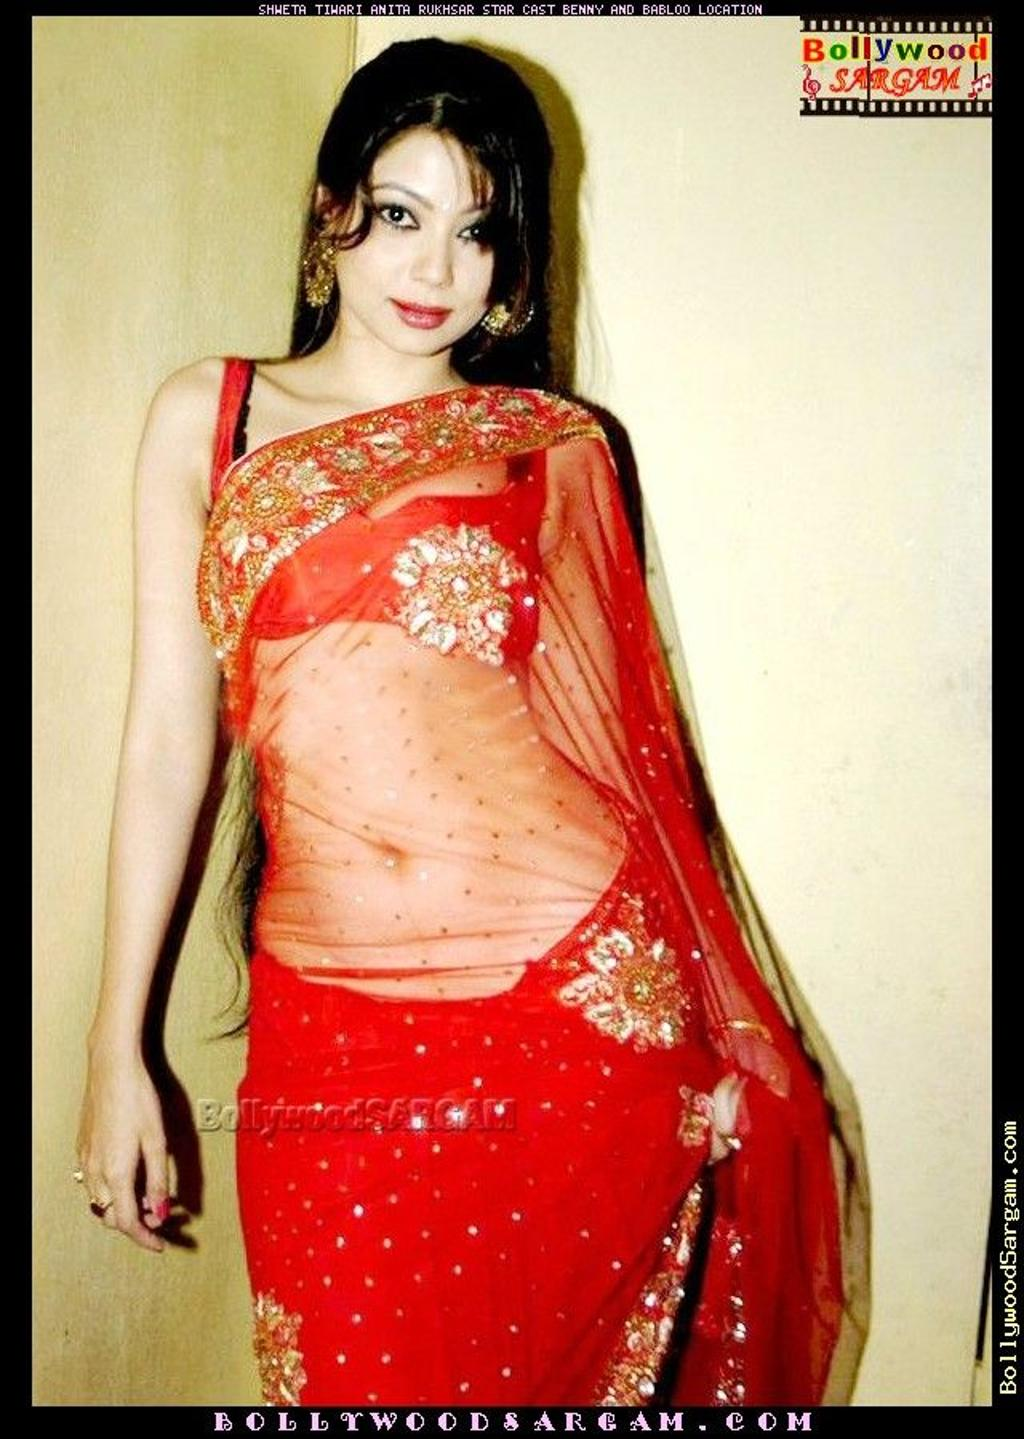face: (335, 127, 495, 358)
